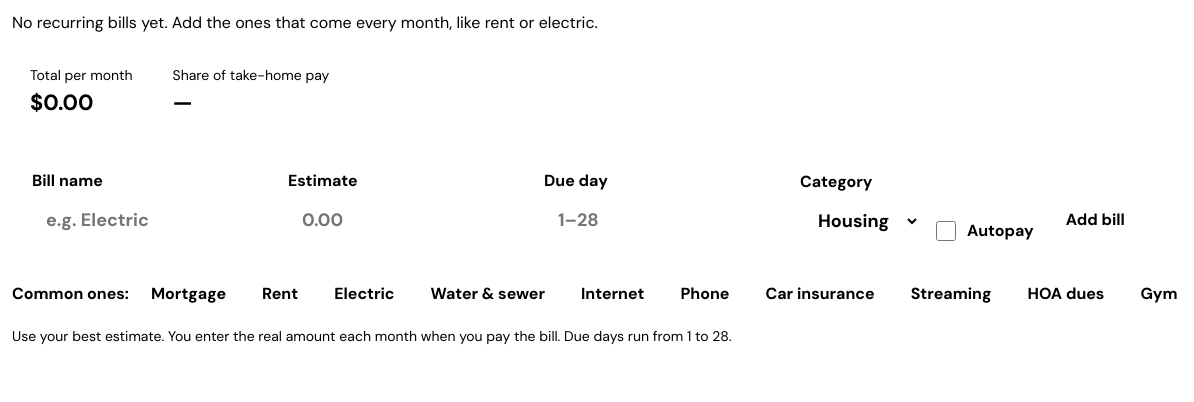
P1-12 recurring bills step › a name is required
Expected: the field labelled "Bill name" is shown, [32, 197, 276, 244]
Type "30" into the field labelled "Estimate" at (410,220), box [288, 197, 532, 244]
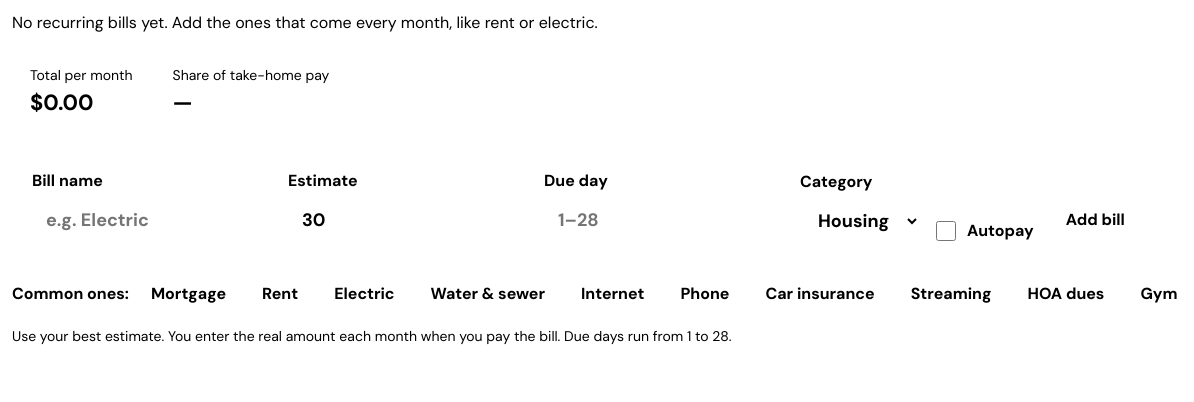
Type "3" into the field labelled "Due day" at (666,220), box [544, 197, 788, 244]
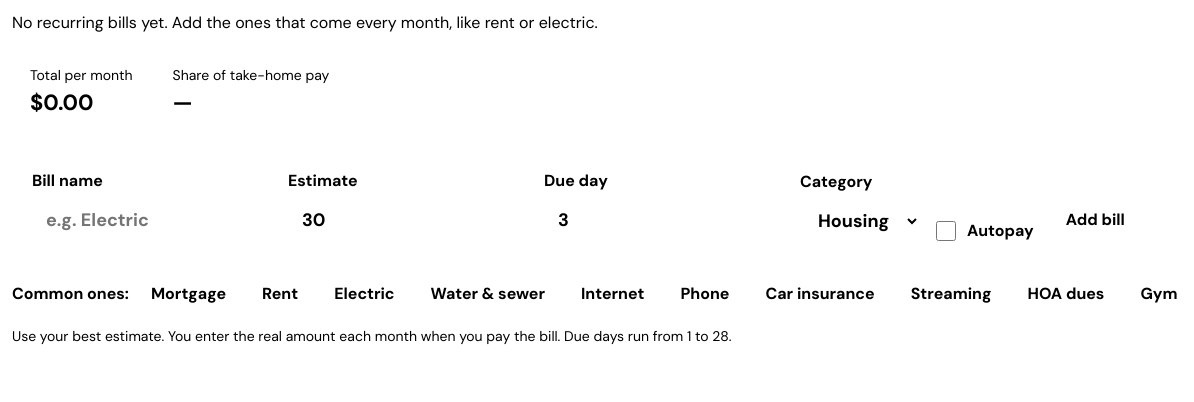
Click the button "Add bill" at (1095,220), box [1046, 196, 1145, 244]
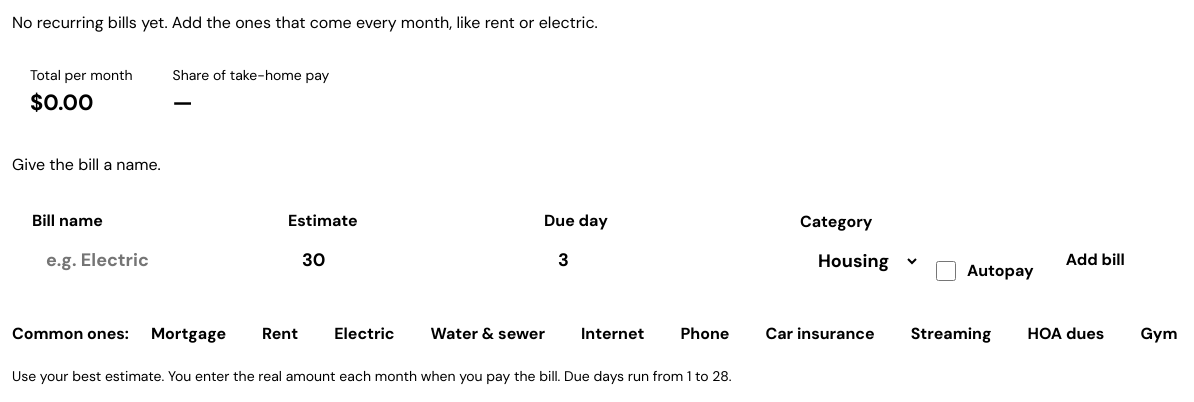
Now the message reads "Give the bill a name.", box [12, 154, 161, 175]
